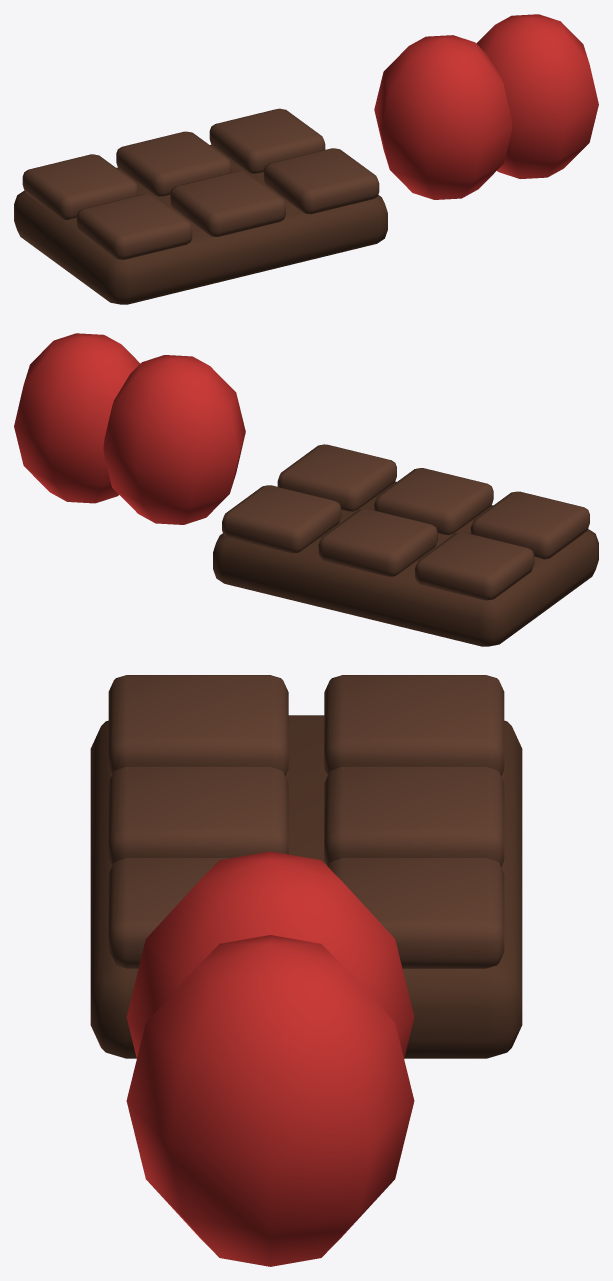
File: ing_sweet.glb
3 views of the same model, one above another, from view 1: azimuth 30°, elevation 25°; view 2: azimuth 150°, elevation 25°; view 3: azimuth 270°, elevation 25° (orthographic). The views are drawn at different scales.
Visible parts, largest first — view 1: ing_sweet; view 2: ing_sweet; view 3: ing_sweet.
Part boxes in pixels (<box>): ing_sweet: <box>14,14,598,304</box>; ing_sweet: <box>14,333,598,646</box>; ing_sweet: <box>90,675,522,1266</box>.
Size of the model in its own units: 0.67 by 0.192 by 0.24.
